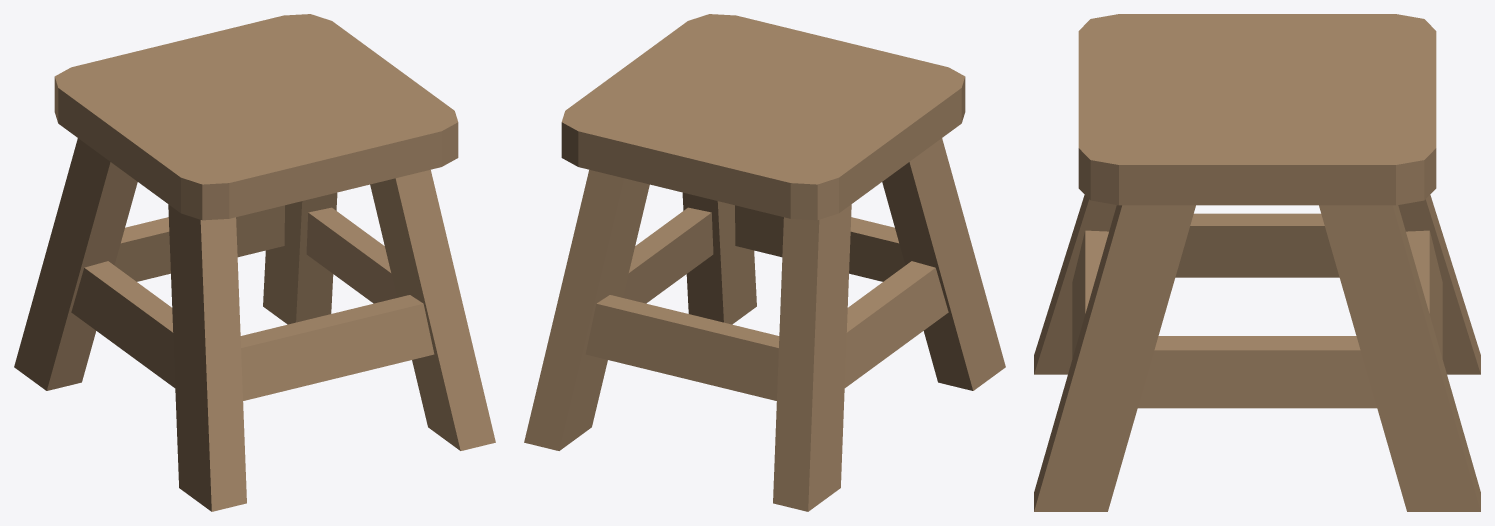
Rendered from Stool.fbx.
The picture shows the model from 3 angles, left to right: view 1: azimuth 30°, elevation 25°; view 2: azimuth 150°, elevation 25°; view 3: azimuth 270°, elevation 25°; orthographic projection. The views are drawn at different scales.
Parts seen in each view (by area): view 1: StoolBase.001; view 2: StoolBase.001; view 3: StoolBase.001.
Boxes of the visible parts, x1,y1,x2,y2 form: StoolBase.001: [14, 14, 495, 511]; StoolBase.001: [524, 14, 1005, 511]; StoolBase.001: [1034, 14, 1480, 511].
Size of the model in its own units: 63.53 by 65.22 by 76.58.
